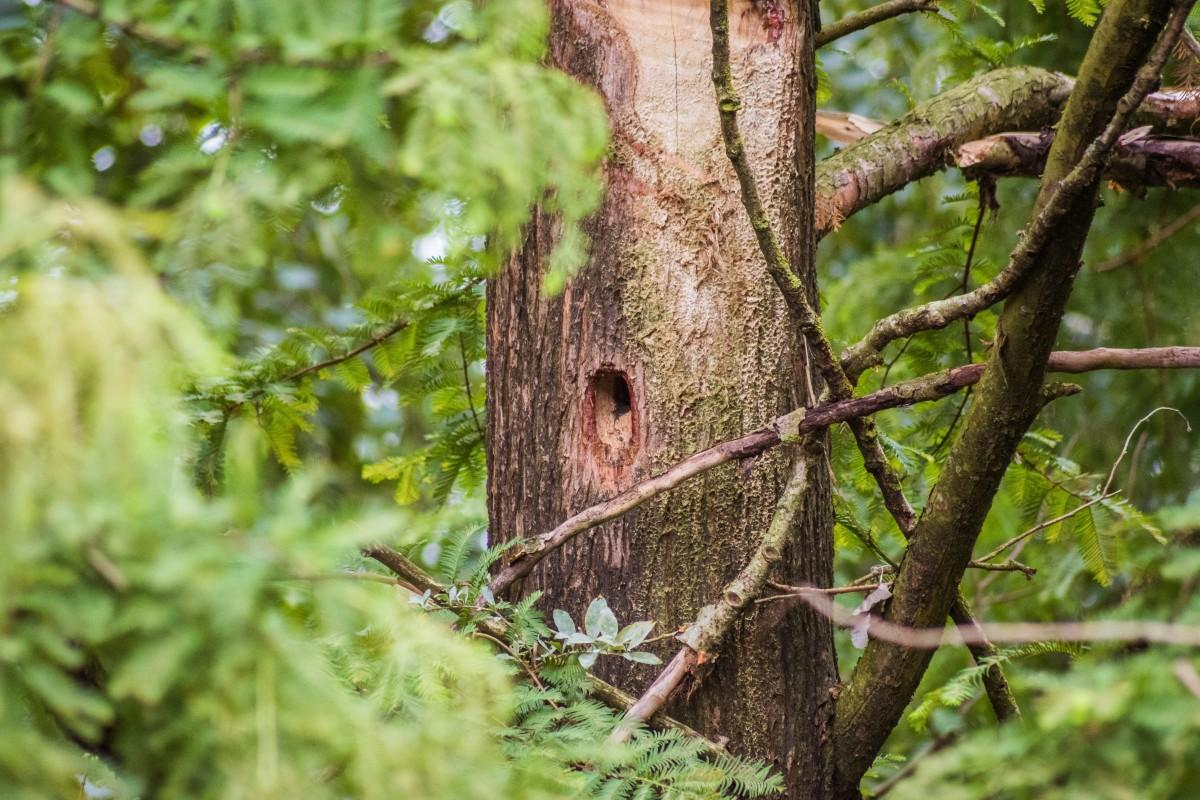hollow: (582, 363, 646, 480)
